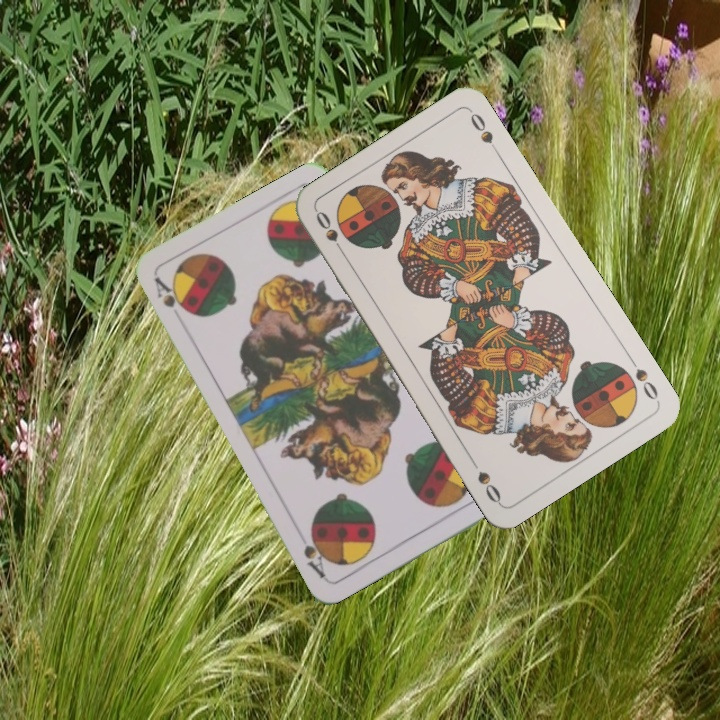SA: (150, 273, 195, 319)
SO: (311, 206, 349, 261), (624, 351, 661, 403)
